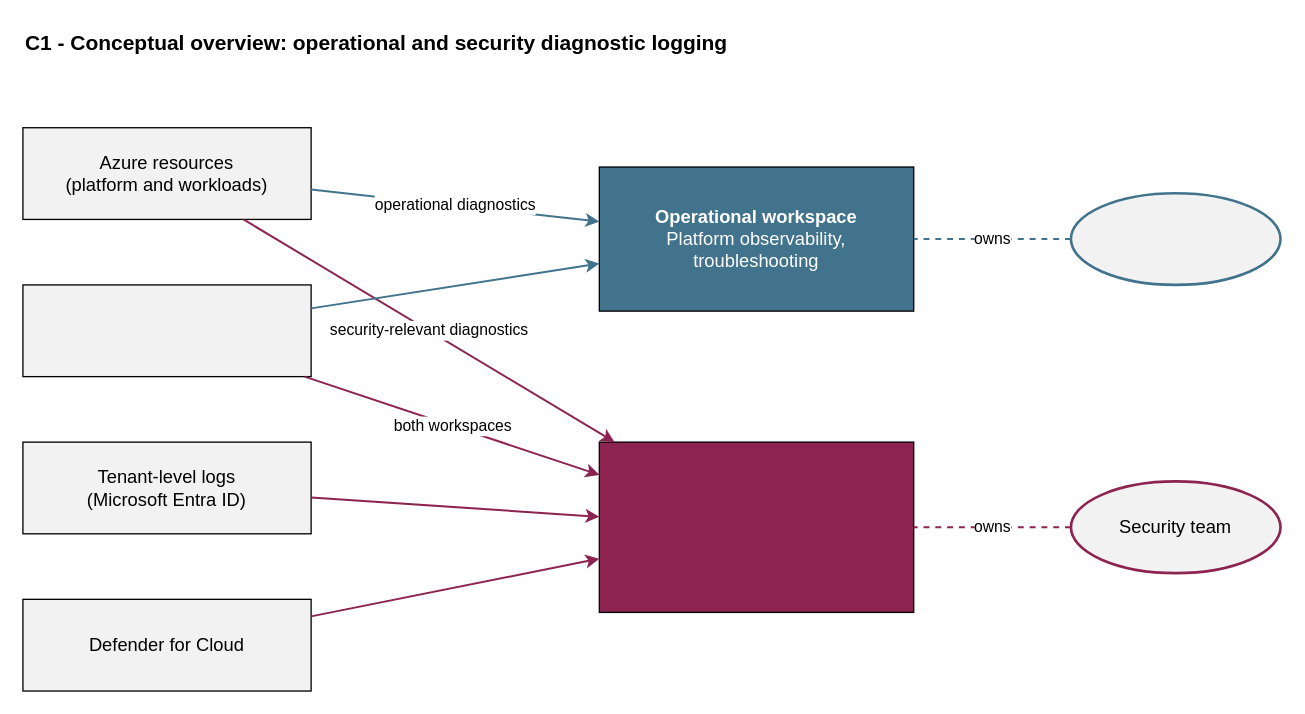
Some shapes in this 1305 by 714 pixel diagram are drawn without their labels. Each missing label, with the centre of its shape:
"Platform team" belongs at point 1175,238.
"Security workspace with Microsoft Sentinel Detection, investigation, compliance" belongs at point 756,526.
"Subscription Activity Log" belongs at point 166,330.
